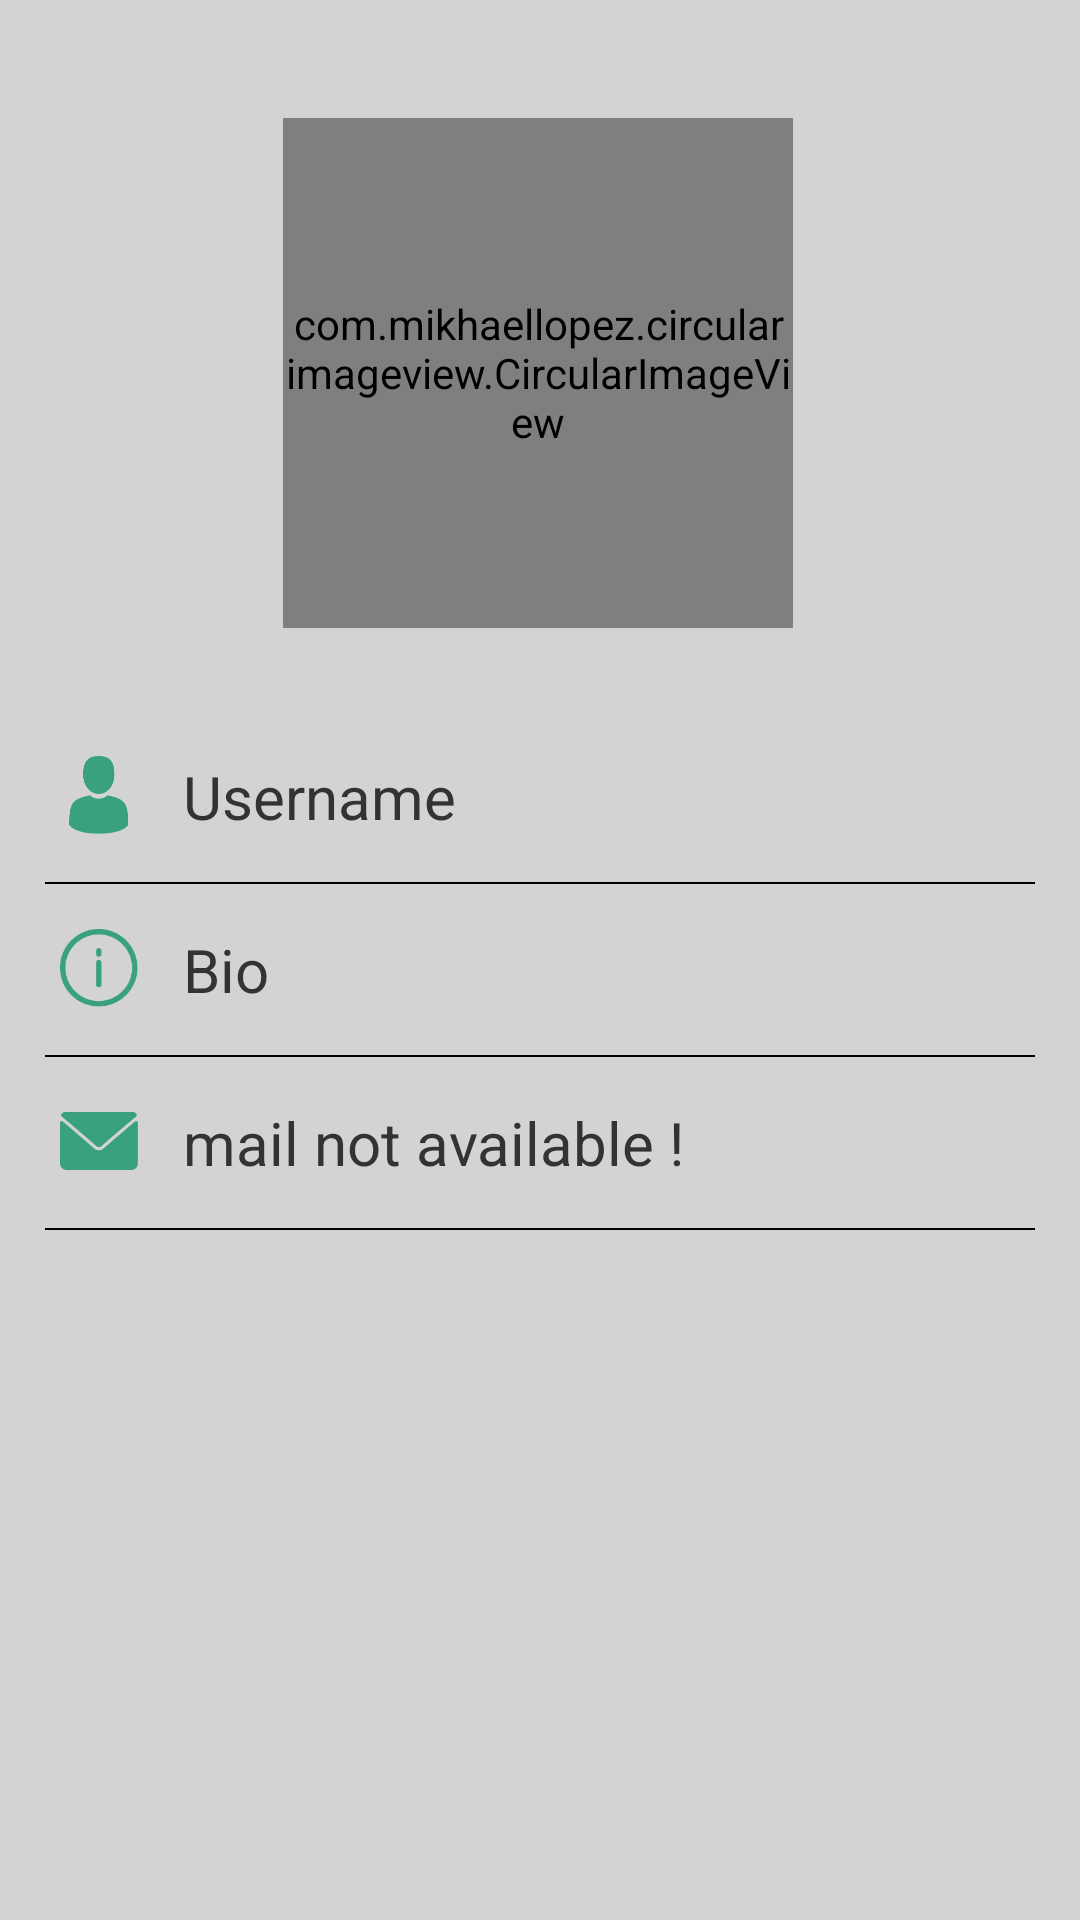

Locate icon controls on the screen. Image size 1080 x 1920, boxes as (x1, y1, x2, y2).
info: (60, 929, 138, 1007)
view email: (60, 1112, 138, 1170)
view user: (69, 756, 128, 834)
